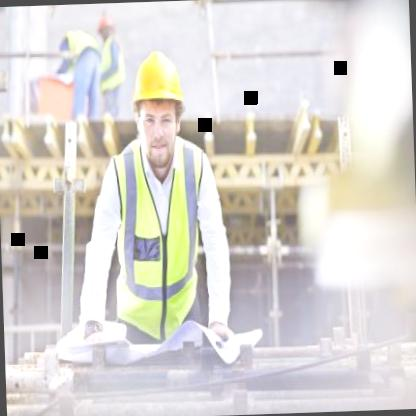helmet: (126, 36, 194, 168), (95, 13, 116, 46)
